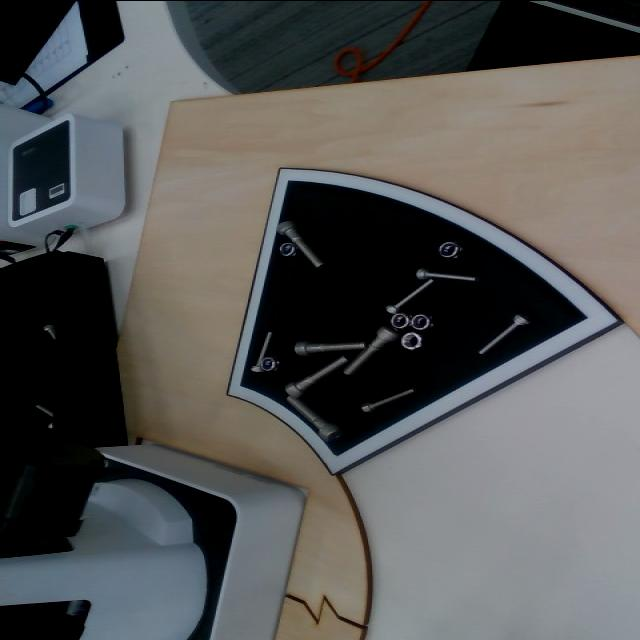big: (282, 341, 349, 405), (281, 389, 348, 447), (337, 318, 397, 381), (274, 216, 329, 274), (292, 336, 364, 356)
board: (222, 163, 616, 477)
circle: (435, 237, 464, 258), (399, 330, 427, 350), (388, 311, 412, 329), (279, 240, 300, 258), (261, 355, 280, 374), (412, 314, 433, 330)
small: (468, 306, 531, 360), (383, 271, 438, 318), (357, 377, 419, 415), (416, 267, 480, 284), (252, 331, 276, 371)
